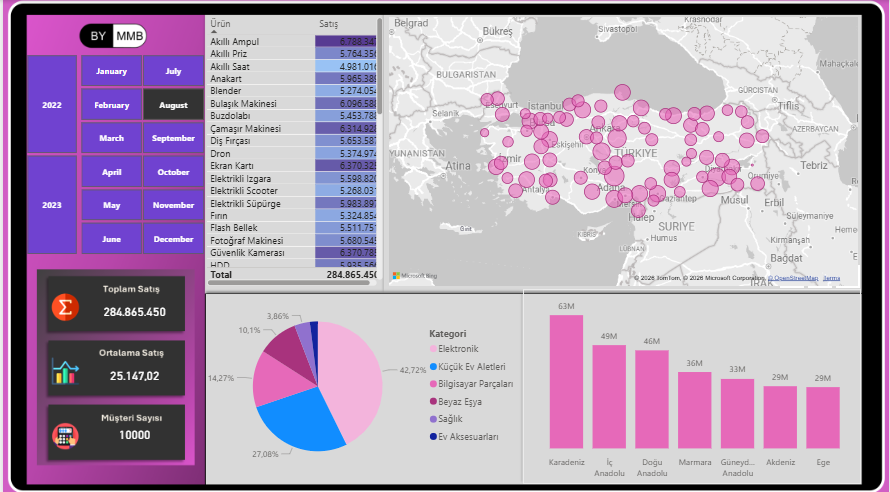

Layout of this report page (visuals, bound fields, positions):
{"tool":"powerbi","page":{"name":"Page 1","canvas":[1280,720],"ordinal":0},"visuals":[{"type":"slicer","fields":{"Values":["satisdatasi.Tarih.Variation.Date Hierarchy.Month"]},"box":[92.6,77.8,216.7,290.7],"z":0},{"type":"slicer","fields":{"Values":["satisdatasi.Tarih.Variation.Date Hierarchy.Year"]},"box":[14.8,77.8,111.1,290.7],"z":1000},{"type":"card","fields":{"Values":["Count(musteriler.musteri_no)"]},"box":[70.4,559.3,238.9,140.7],"z":2000},{"type":"card","fields":{"Values":["Sum(satisdatasi.satis_tutari)"]},"box":[70.4,381.5,238.9,140.7],"z":3000},{"type":"card","fields":{"Values":["Avg(satisdatasi.satis_tutari)"]},"box":[70.4,474.1,238.9,140.7],"z":4000},{"type":"tableEx","fields":{"Values":["satisdatasi.urun","Sum(satisdatasi.satis_tutari)"]},"box":[288.9,20.4,264.8,398.1],"z":5000},{"type":"pieChart","fields":{"Category":["kategoriler.Kategori"],"Y":["Sum(satisdatasi.satis_tutari)"]},"box":[288.9,418.5,463,281.5],"z":6000},{"type":"columnChart","fields":{"Category":["bolgeler.bolge"],"Y":["Sum(satisdatasi.satis_tutari)"]},"box":[751.9,418.5,488.9,281.5],"z":7000},{"type":"map","fields":{"Size":["Sum(satisdatasi.satis_tutari)"],"Category":["satisdatasi.il"]},"box":[553.7,20.2,686.7,397.6],"z":8000}]}

Visuals, with their boxes in screenshot pixels (x1, y1, x2, y2), scaled from the page's 1280x720 canvas onto the 890x492 screenshot:
slicer - satisdatasi.Tarih.Variation.Date Hierarchy.Month: bbox=[64, 53, 215, 252]
slicer - satisdatasi.Tarih.Variation.Date Hierarchy.Year: bbox=[10, 53, 88, 252]
card - Count(musteriler.musteri_no): bbox=[49, 382, 215, 478]
card - Sum(satisdatasi.satis_tutari): bbox=[49, 261, 215, 357]
card - Avg(satisdatasi.satis_tutari): bbox=[49, 324, 215, 420]
tableEx - satisdatasi.urun x Sum(satisdatasi.satis_tutari): bbox=[201, 14, 385, 286]
pieChart - kategoriler.Kategori x Sum(satisdatasi.satis_tutari): bbox=[201, 286, 523, 478]
columnChart - bolgeler.bolge x Sum(satisdatasi.satis_tutari): bbox=[523, 286, 863, 478]
map - Sum(satisdatasi.satis_tutari) x satisdatasi.il: bbox=[385, 14, 862, 285]
